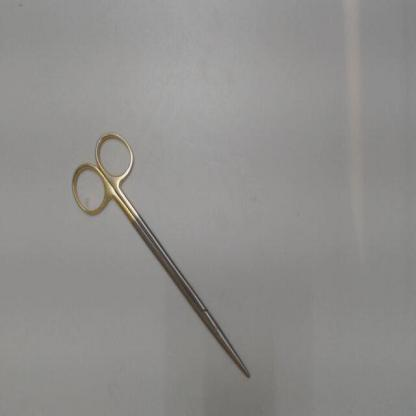7 Metzenbaum Scissors: (68, 126, 256, 387)
